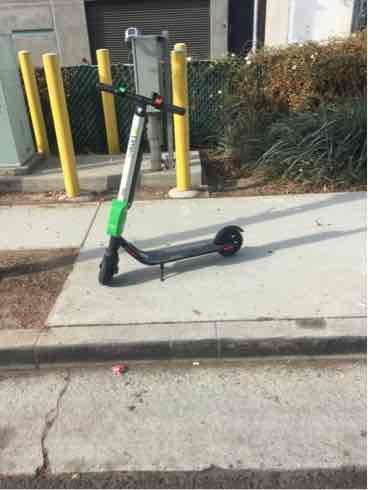scooter: (88, 84, 249, 294)
